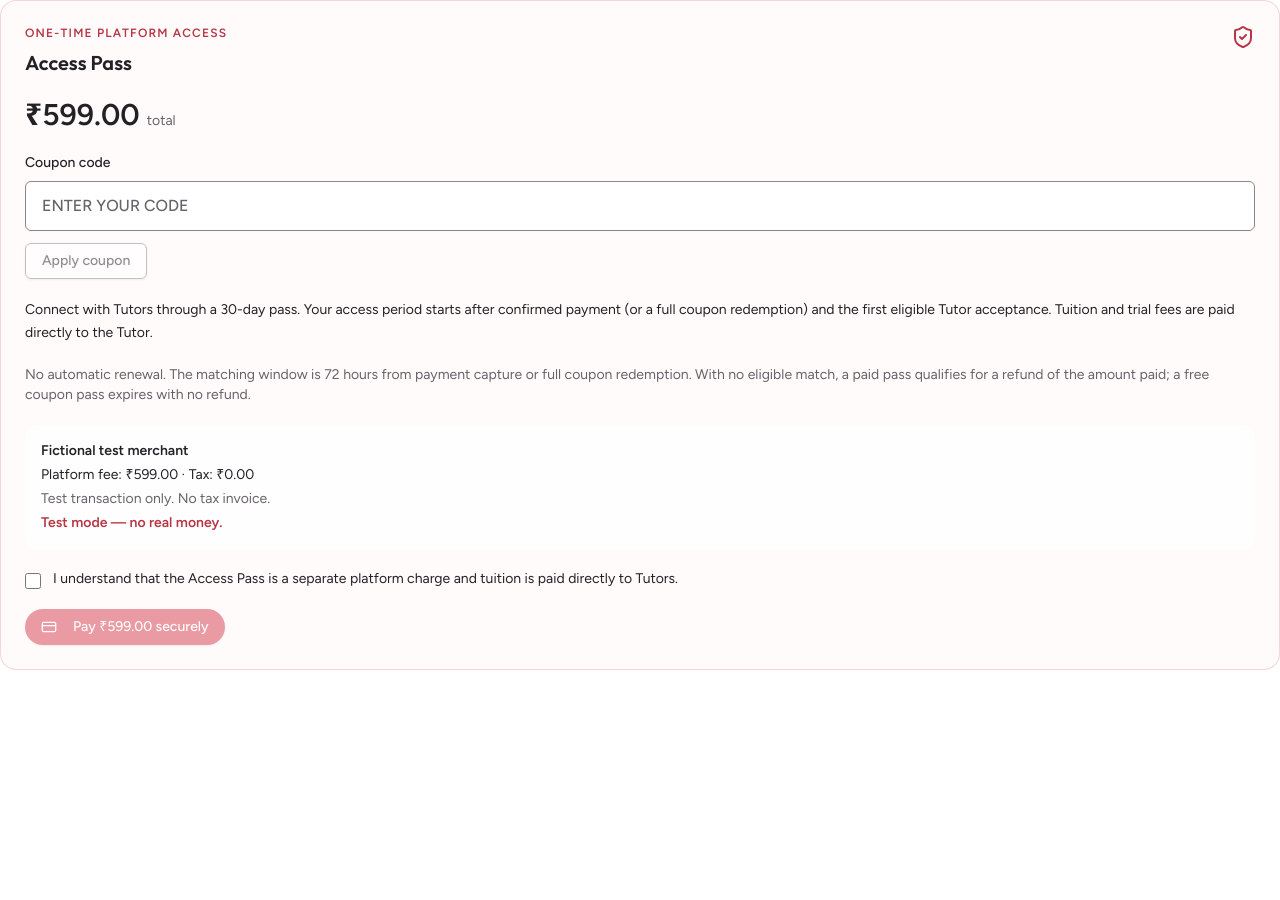
Test: opens server-priced hosted checkout and keeps a successful browser callback pending until server confirmation
Expected: the button "Pay ₹599.00 securely" is disabled, [25, 608, 225, 644]
Click the checkbox at (33, 580), box [25, 572, 41, 588]
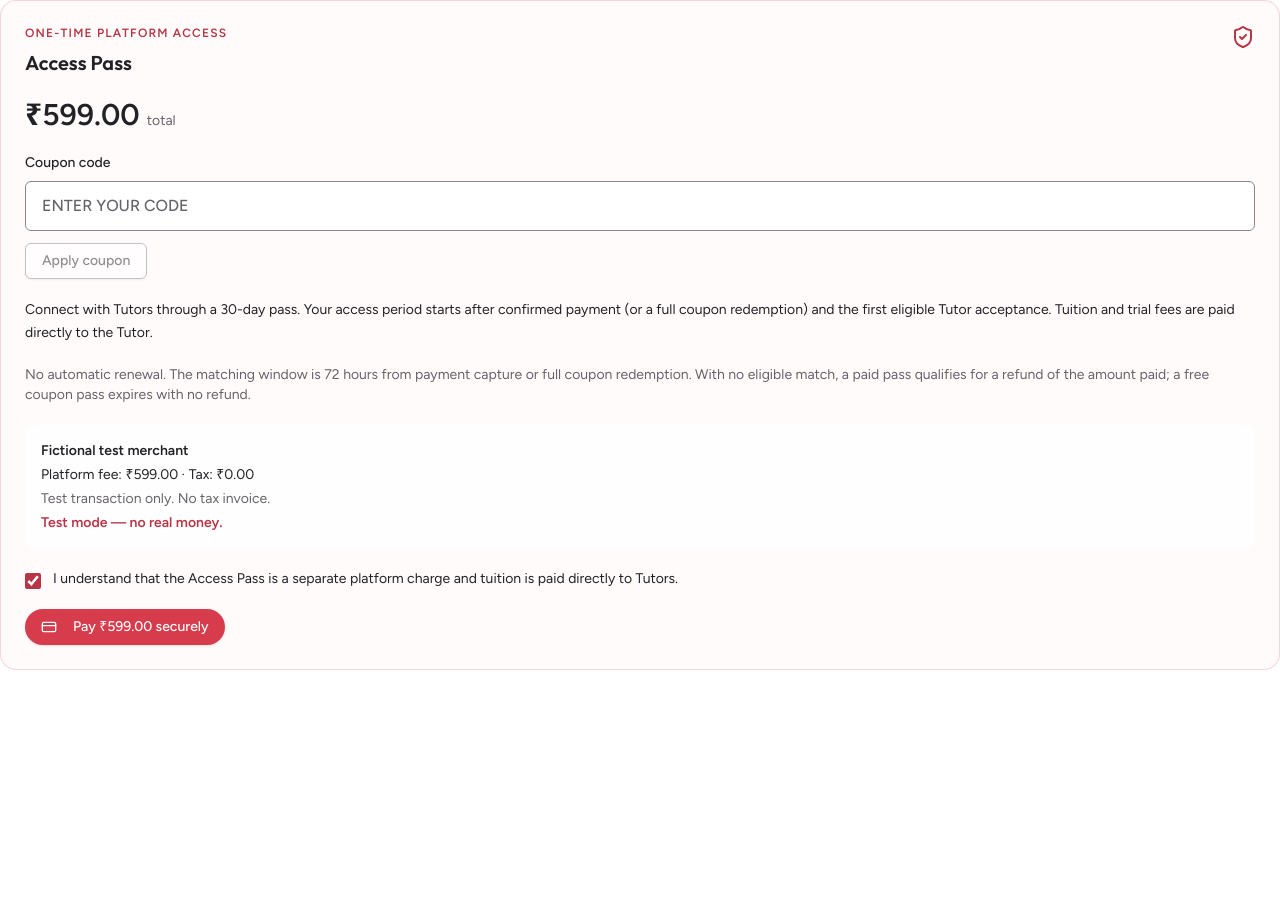
Click the button "Pay ₹599.00 securely" at (125, 626), box [25, 608, 225, 644]
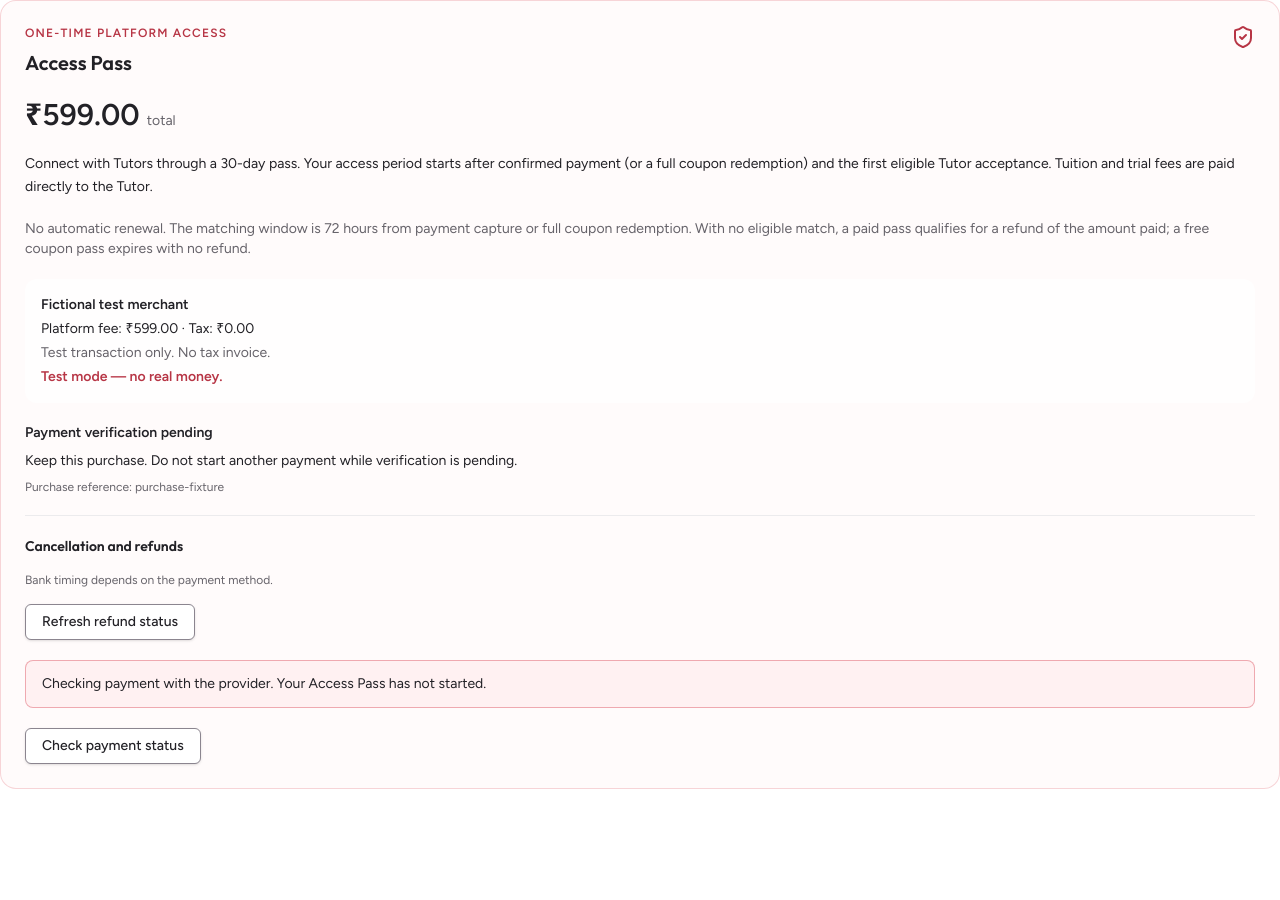
Expected: the text "Payment verification pending" is shown, [25, 424, 213, 440]
